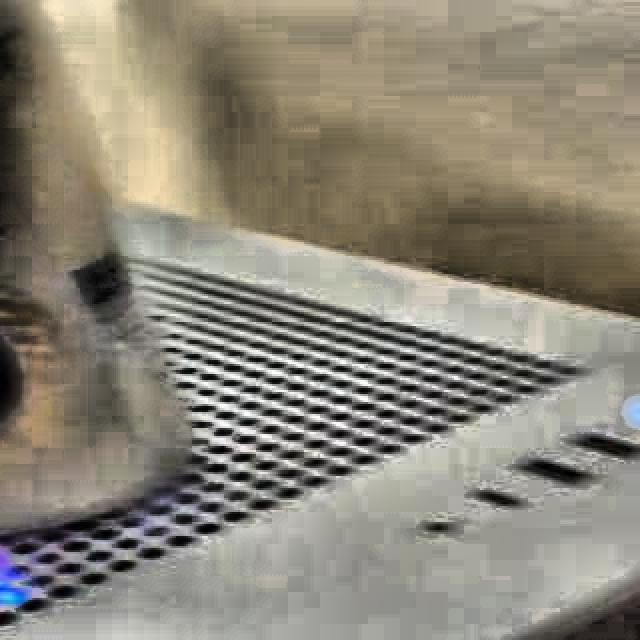metal: (0, 0, 212, 552)
